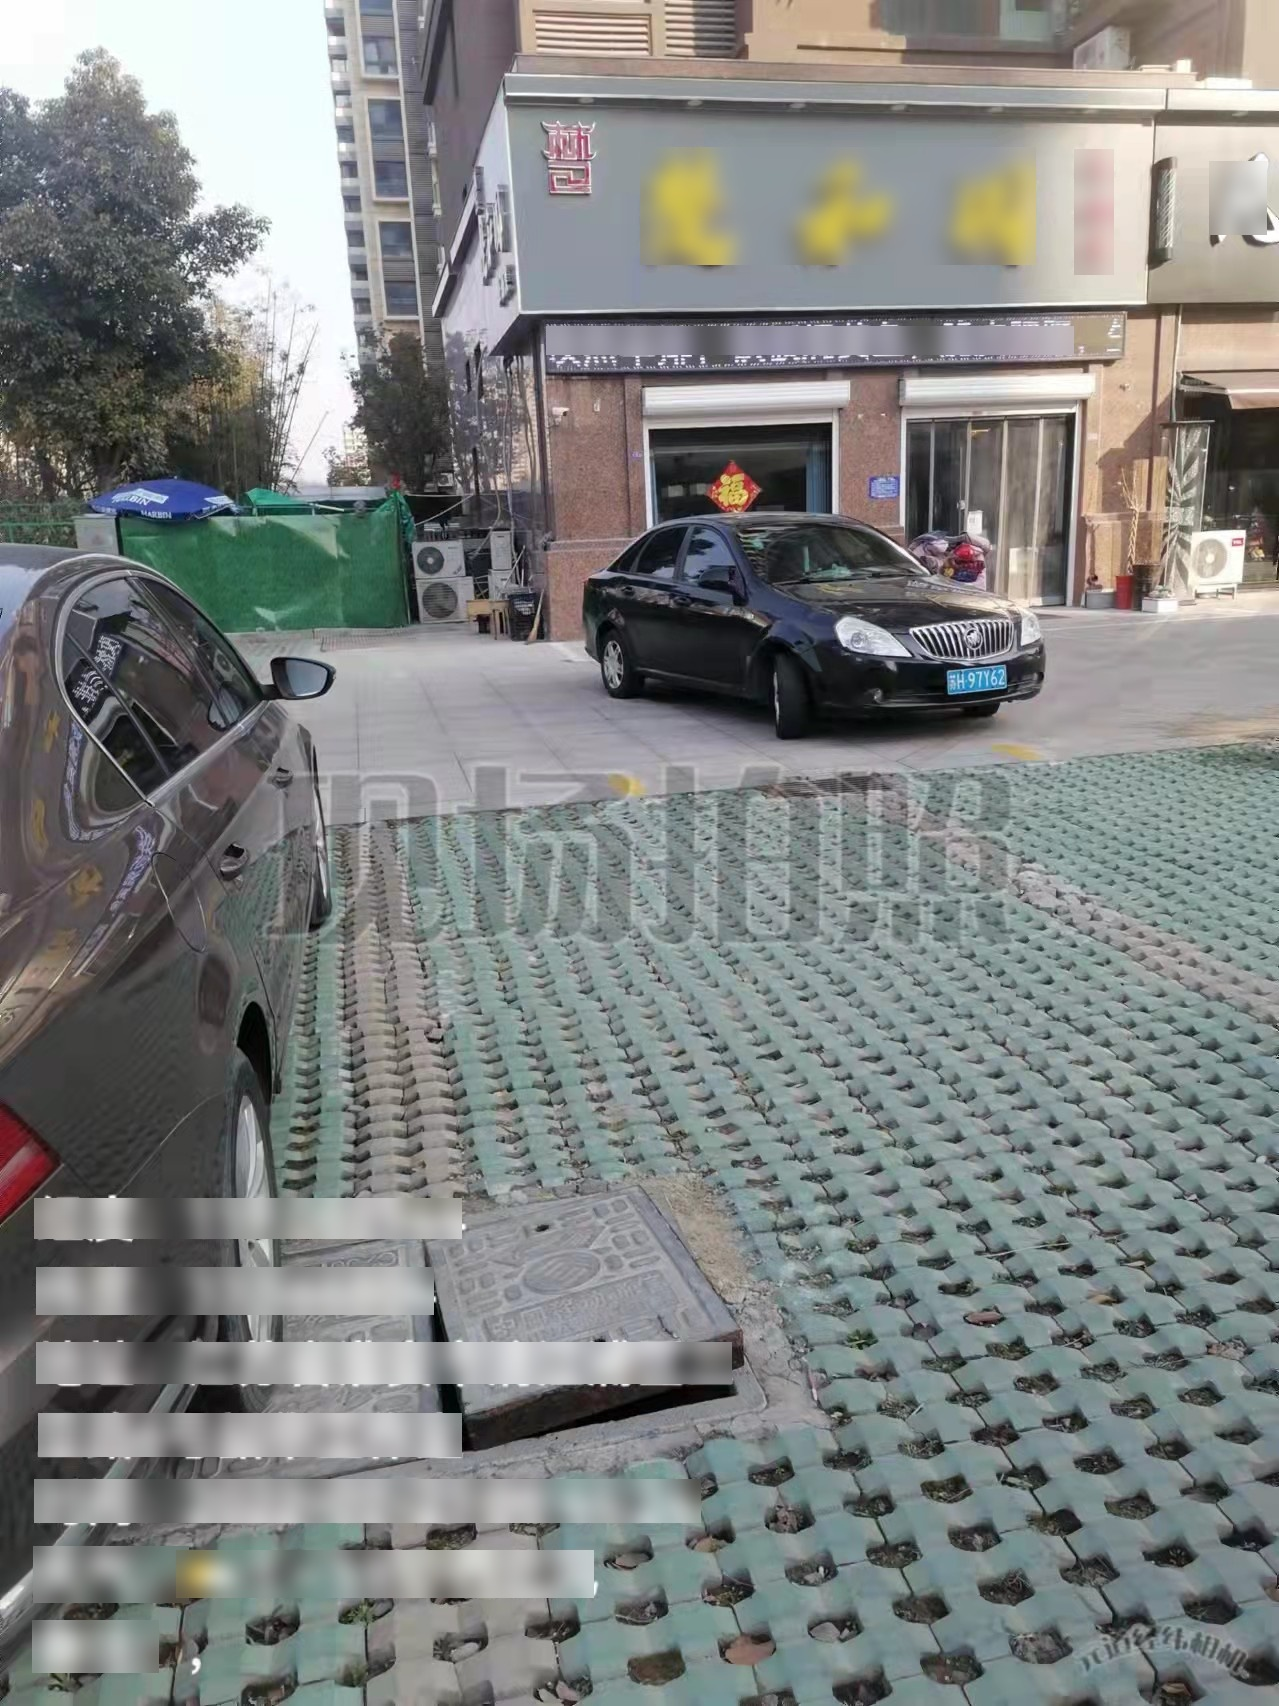uncovered: (277, 1185, 768, 1500)
